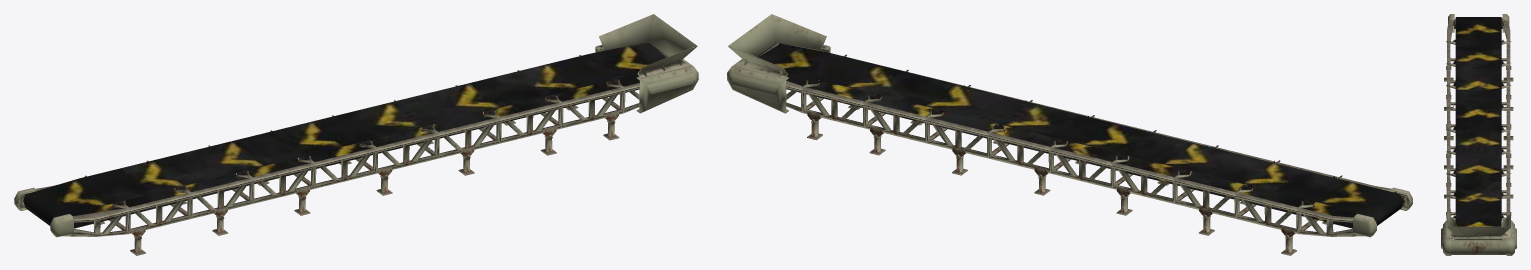
The model's file is conveyor.lod0.glb.
3 views of the same model, side by side, from view 1: azimuth 30°, elevation 25°; view 2: azimuth 150°, elevation 25°; view 3: azimuth 270°, elevation 25° (orthographic). The views are drawn at different scales.
Visible parts, largest first — view 1: Conveyor_Belt_ConveyorBelt_Mat_0, Conveyor_Side_low2_Conveyor_Mat_0, Conveyor_Funnel_low1_Scaff_Funnel_Mat_0; view 2: Conveyor_Belt_ConveyorBelt_Mat_0, Conveyor_Side_low2_Conveyor_Mat_0, Conveyor_Funnel_low1_Scaff_Funnel_Mat_0; view 3: Conveyor_Belt_ConveyorBelt_Mat_0, Conveyor_Side_low2_Conveyor_Mat_0, Conveyor_Funnel_low1_Scaff_Funnel_Mat_0.
Boxes of the visible parts, x1,y1,x2,y2 form: Conveyor_Belt_ConveyorBelt_Mat_0: (23,42,667,228); Conveyor_Side_low2_Conveyor_Mat_0: (19,49,667,255); Conveyor_Funnel_low1_Scaff_Funnel_Mat_0: (14,14,698,237); Conveyor_Belt_ConveyorBelt_Mat_0: (757,43,1403,228); Conveyor_Side_low2_Conveyor_Mat_0: (759,43,1408,255); Conveyor_Funnel_low1_Scaff_Funnel_Mat_0: (727,14,1412,237); Conveyor_Belt_ConveyorBelt_Mat_0: (1455,17,1501,239); Conveyor_Side_low2_Conveyor_Mat_0: (1444,18,1513,240); Conveyor_Funnel_low1_Scaff_Funnel_Mat_0: (1441,14,1516,255).
Size of the model in its own units: 42 by 4.45 by 5.89.
Materials: 3 (3 with a texture image).
